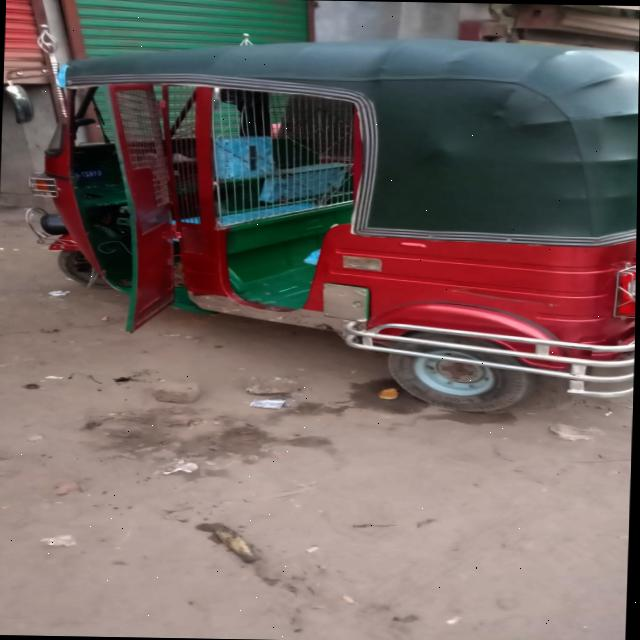cng: (0, 20, 640, 437)
